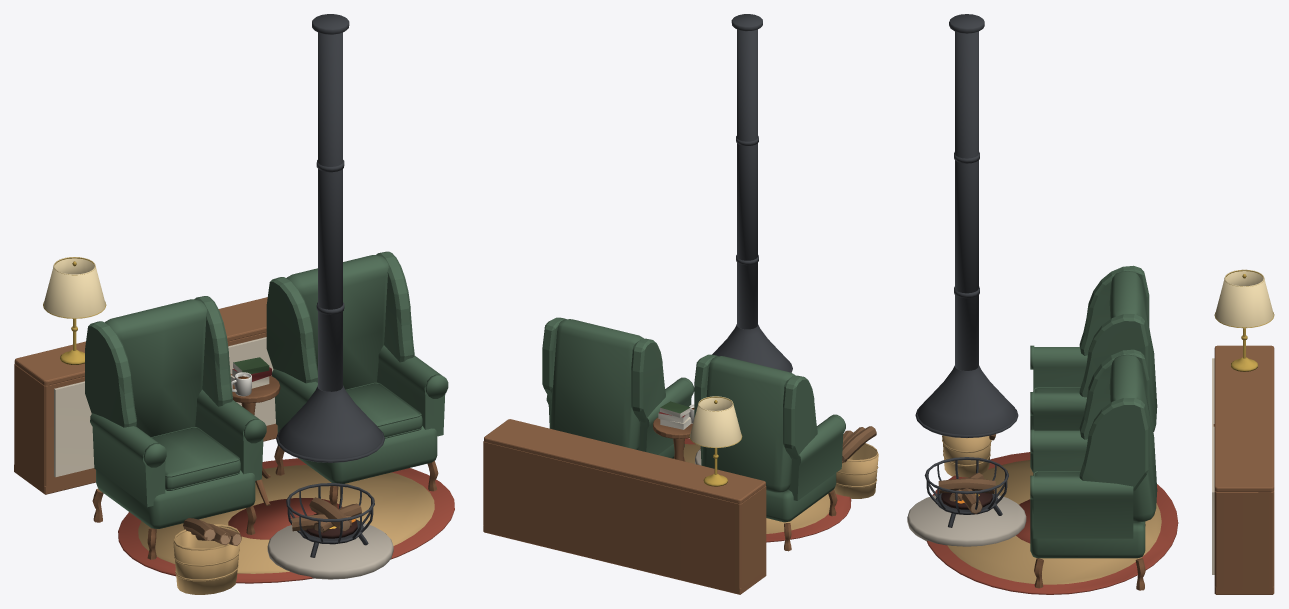
File: firesideLounge.glb
3 renders of one model, left to right at view 1: azimuth 30°, elevation 25°; view 2: azimuth 150°, elevation 25°; view 3: azimuth 270°, elevation 25°, orthographic. The views are drawn at different scales.
Parts seen in each view (by area): view 1: body; view 2: body; view 3: body.
Boxes of the visible parts, bbox=[...] form: body: bbox=[14, 14, 454, 594]; body: bbox=[483, 14, 878, 594]; body: bbox=[907, 14, 1274, 594].
Bounding box in the file's own units: 1.7 × 2.8 × 1.85.
